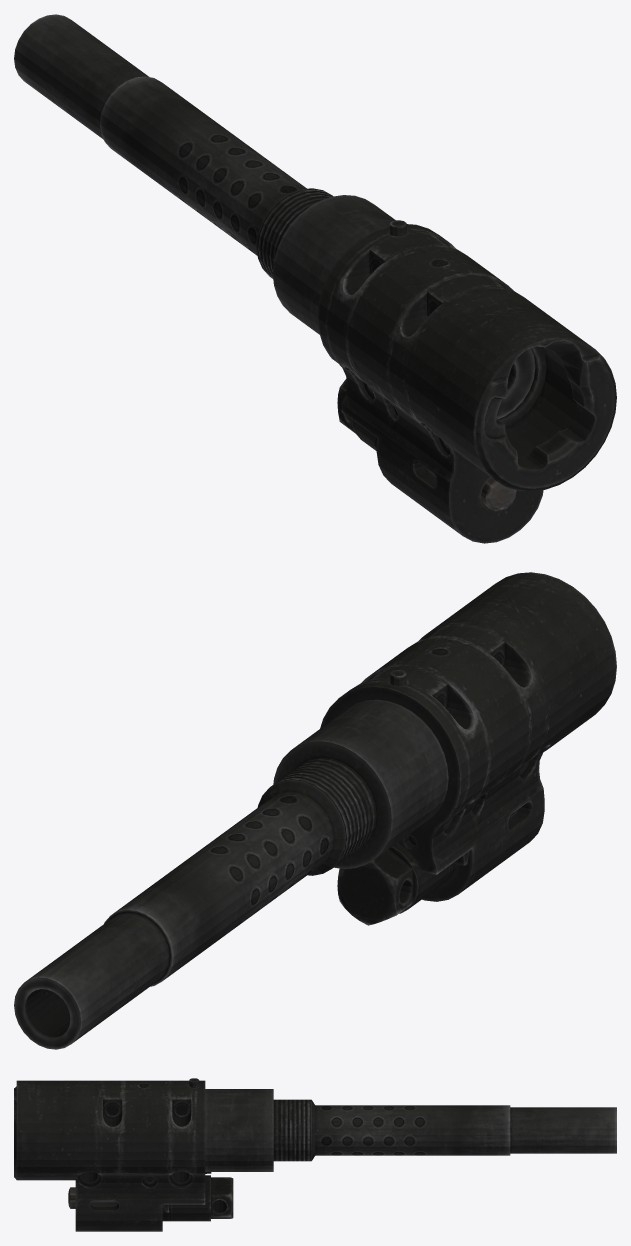
3 views of the same model, one above another, from view 1: azimuth 30°, elevation 25°; view 2: azimuth 150°, elevation 25°; view 3: azimuth 270°, elevation 25° (orthographic). The views are drawn at different scales.
Parts seen in each view (by area): view 1: TW_67614994e889e1972605d6bb_PZ_Import; view 2: TW_67614994e889e1972605d6bb_PZ_Import; view 3: TW_67614994e889e1972605d6bb_PZ_Import.
Boxes of the visible parts, <box> form: TW_67614994e889e1972605d6bb_PZ_Import: <box>14,14,616,543</box>; TW_67614994e889e1972605d6bb_PZ_Import: <box>14,572,616,1049</box>; TW_67614994e889e1972605d6bb_PZ_Import: <box>14,1078,616,1231</box>.
Size of the model in its own units: 0.016 by 0.0968 by 0.0263.
1 material, 1 textured.
